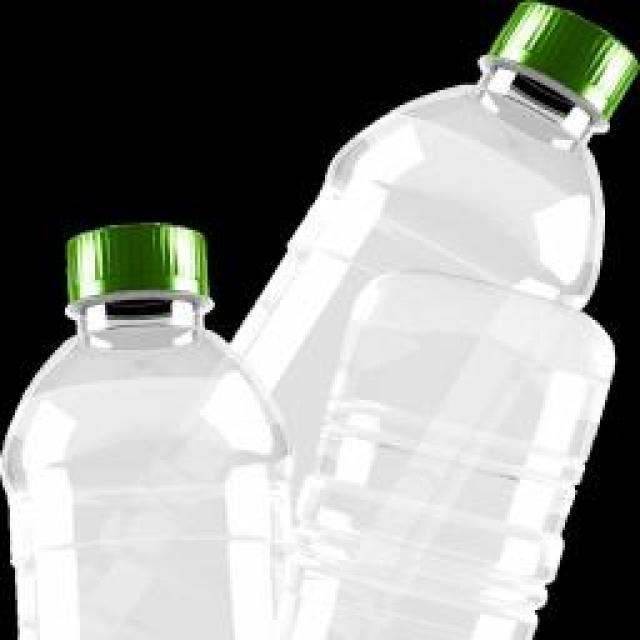bottle: (3, 225, 290, 640), (298, 276, 613, 640), (267, 7, 630, 305)
